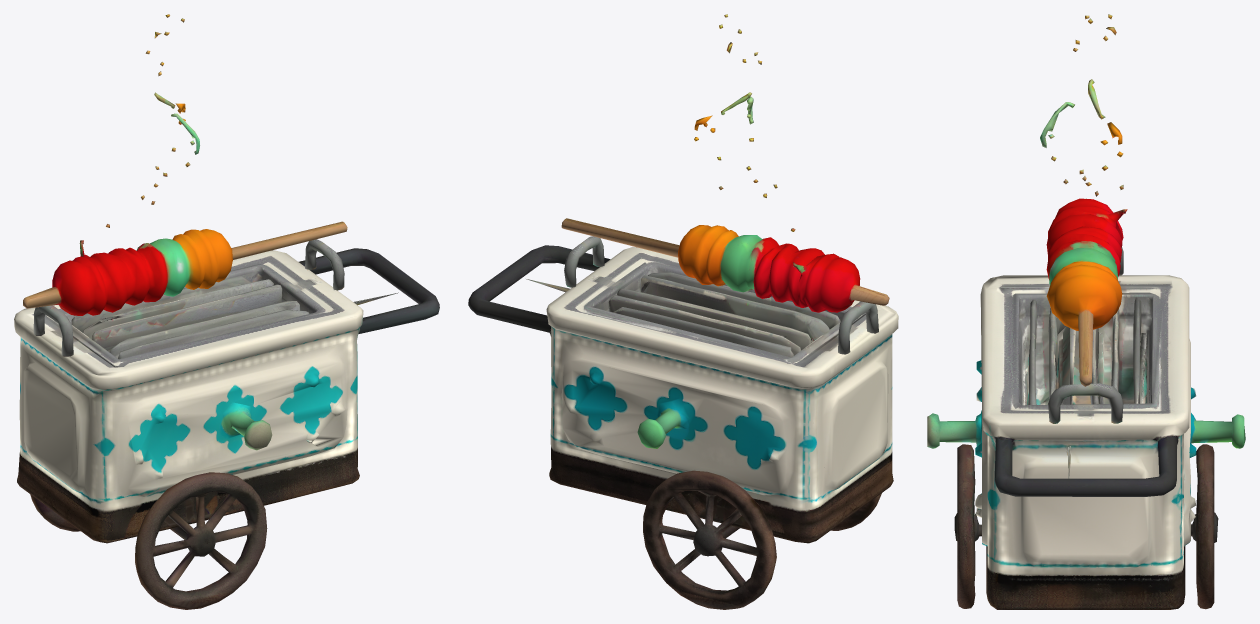
File: hub_shashlik_grill.glb
3 views of the same model, side by side, from view 1: azimuth 30°, elevation 25°; view 2: azimuth 150°, elevation 25°; view 3: azimuth 270°, elevation 25° (orthographic). The views are drawn at different scales.
Size of the model in its own units: 1.42 by 1.91 by 0.908.
1 material, 1 textured.
